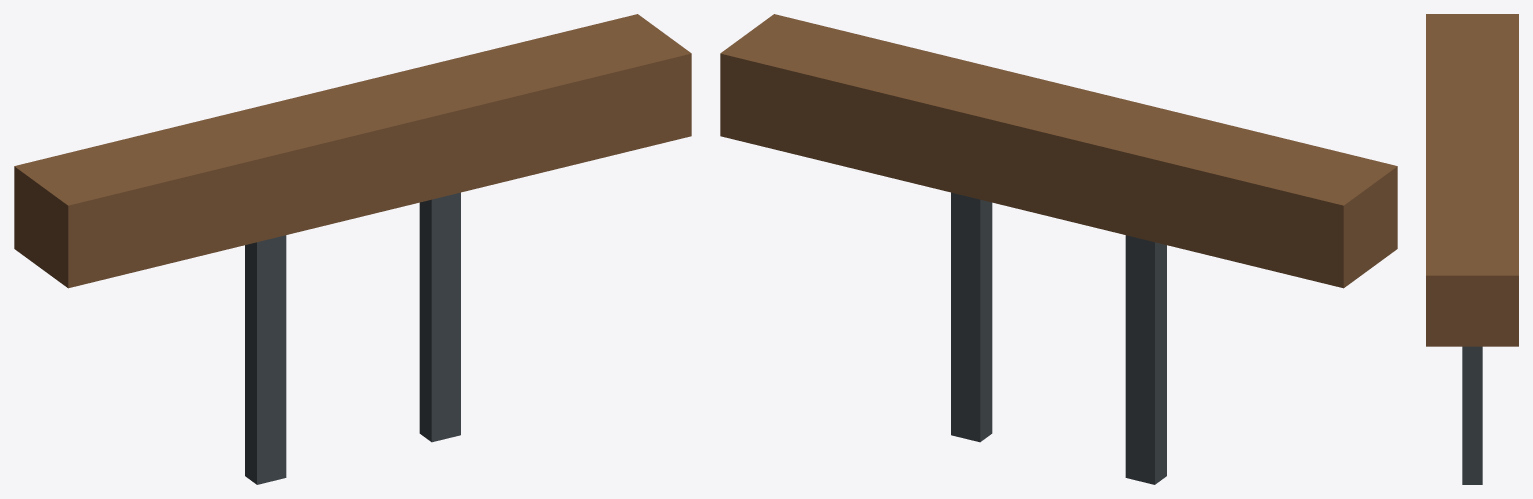
Rendered from Pulley_Yoke.glb.
3 renders of one model, left to right at view 1: azimuth 30°, elevation 25°; view 2: azimuth 150°, elevation 25°; view 3: azimuth 270°, elevation 25°, orthographic. The views are drawn at different scales.
Parts seen in each view (by area): view 1: Pulley_Yoke; view 2: Pulley_Yoke; view 3: Pulley_Yoke.
Boxes of the visible parts, x1,y1,x2,y2 form: Pulley_Yoke: (14,14,691,484); Pulley_Yoke: (720,14,1397,484); Pulley_Yoke: (1426,14,1518,484).
Bounding box in the file's own units: 3 × 1.59 × 0.45.
